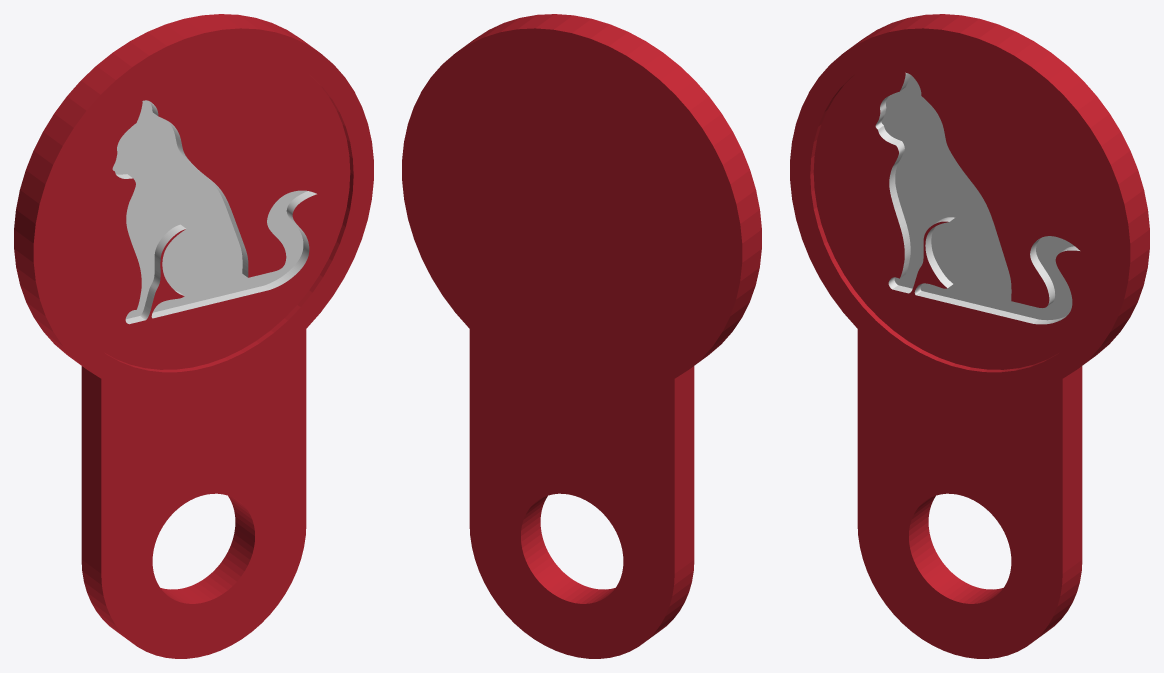
Rendered from v_cart_coin_v2.gltf.
3 views of the same model, side by side, from view 1: azimuth 30°, elevation 25°; view 2: azimuth 150°, elevation 25°; view 3: azimuth 330°, elevation 25° (orthographic).
Parts seen in each view (by area): view 1: cat_gltf_export; view 2: cat_gltf_export; view 3: cat_gltf_export.
Part boxes in pixels (left/top/right/bottom): cat_gltf_export: left=14, top=14, right=373, bottom=658; cat_gltf_export: left=402, top=14, right=761, bottom=658; cat_gltf_export: left=790, top=14, right=1149, bottom=658.
Size of the model in its own units: 1.51 by 2.64 by 0.1515.
